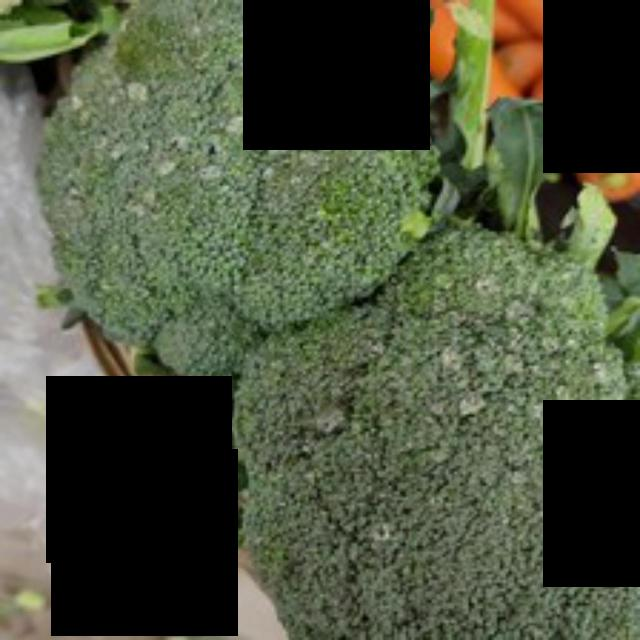broccoli: (45, 0, 427, 382)
